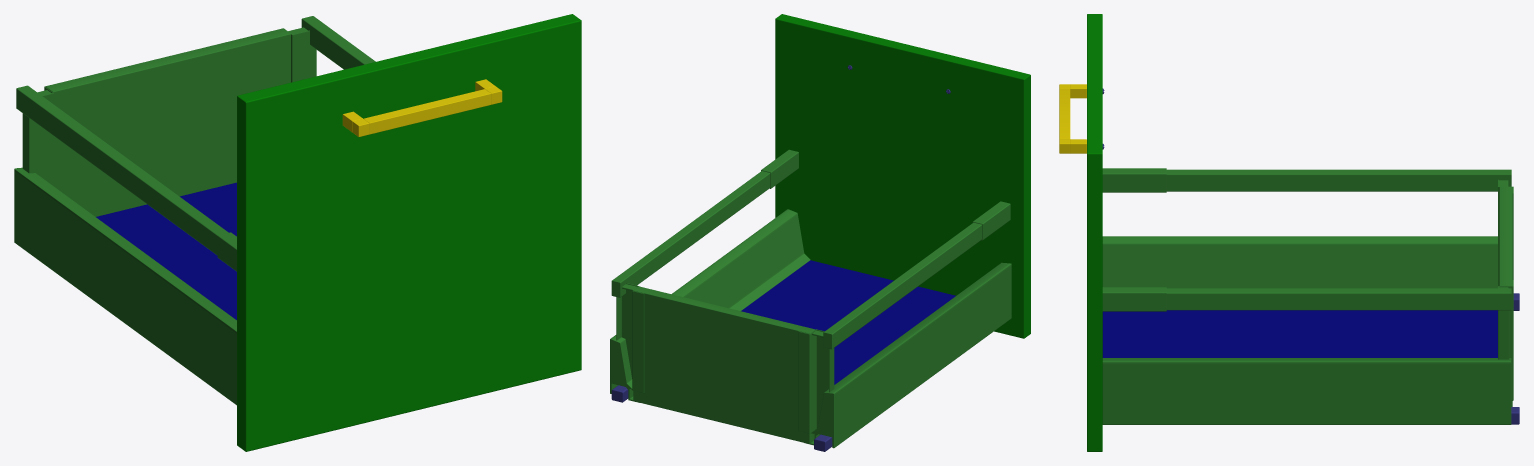
The model's file is SM_Kitchen_03_Base_Drawer_03.fbx.
The picture shows the model from 3 angles, left to right: view 1: azimuth 30°, elevation 25°; view 2: azimuth 150°, elevation 25°; view 3: azimuth 270°, elevation 25°; orthographic projection. The views are drawn at different scales.
Parts seen in each view (by area): view 1: SM_Kitchen_03_Base_Drawer_03; view 2: SM_Kitchen_03_Base_Drawer_03; view 3: SM_Kitchen_03_Base_Drawer_03.
Part boxes in pixels (<box>): SM_Kitchen_03_Base_Drawer_03: <box>14,14,581,451</box>; SM_Kitchen_03_Base_Drawer_03: <box>610,14,1030,451</box>; SM_Kitchen_03_Base_Drawer_03: <box>1059,14,1519,451</box>.
Bounding box in the file's own units: 39.8 × 39.6 × 55.29.
